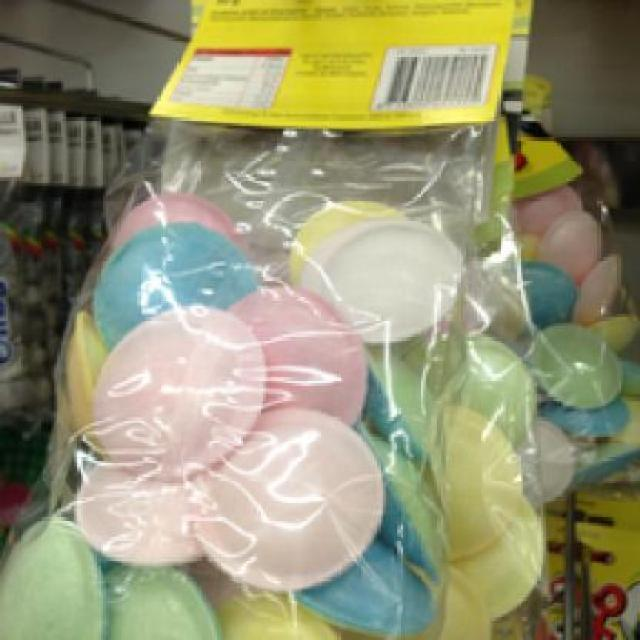Candy: (86, 8, 520, 614)
